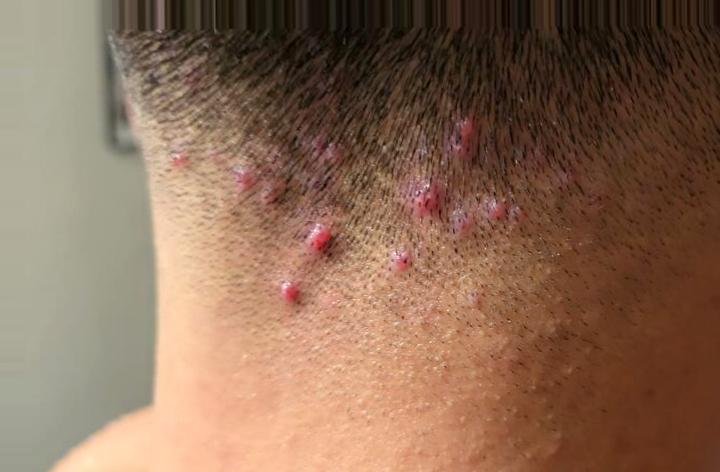Folliculitis: (171, 126, 529, 314)
